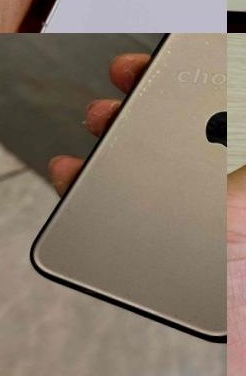scratch: (88, 43, 177, 149)
